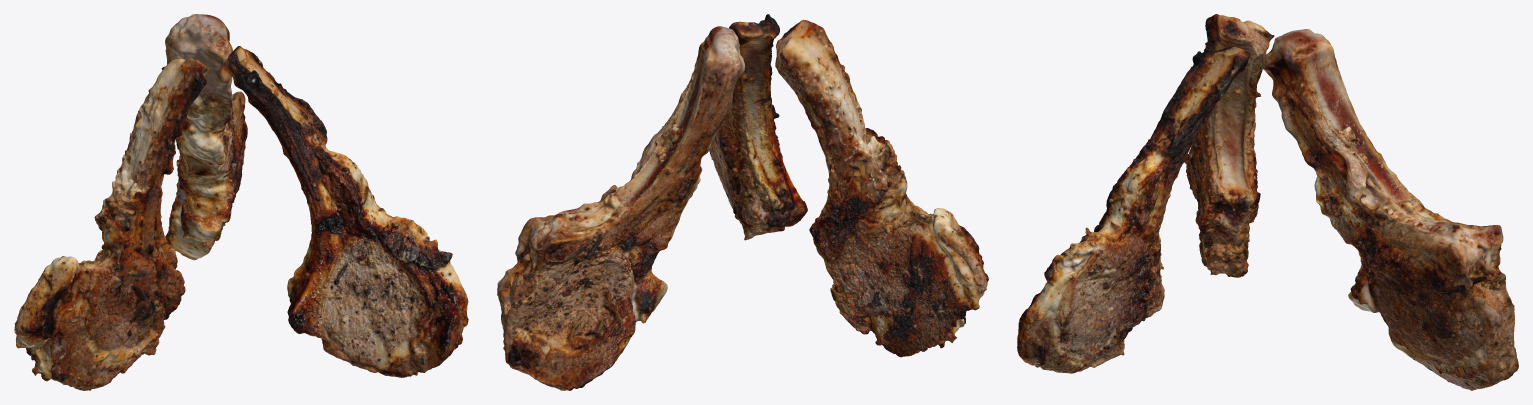
File: costeletas-de-cordeiro-android.glb
3 views of the same model, side by side, from view 1: azimuth 30°, elevation 25°; view 2: azimuth 150°, elevation 25°; view 3: azimuth 270°, elevation 25° (orthographic). The views are drawn at different scales.
Parts seen in each view (by area): view 1: Object_4, Object_6, Object_7, Object_2, Object_5, Object_3; view 2: Object_2, Object_6, Object_3, Object_4, Object_7, Object_5; view 3: Object_2, Object_4, Object_3, Object_6, Object_5, Object_7.
Boxes of the visible parts, bbox=[...] form: Object_4: bbox=[225, 46, 468, 369]; Object_6: bbox=[14, 58, 209, 388]; Object_7: bbox=[22, 110, 181, 390]; Object_2: bbox=[165, 14, 247, 260]; Object_5: bbox=[247, 61, 468, 377]; Object_3: bbox=[168, 26, 245, 259]; Object_2: bbox=[497, 26, 745, 390]; Object_6: bbox=[775, 19, 988, 355]; Object_3: bbox=[497, 33, 739, 360]; Object_4: bbox=[709, 14, 807, 240]; Object_7: bbox=[775, 60, 980, 357]; Object_5: bbox=[710, 15, 792, 238]; Object_2: bbox=[1273, 29, 1518, 390]; Object_4: bbox=[1017, 46, 1250, 373]; Object_3: bbox=[1260, 45, 1516, 388]; Object_6: bbox=[1184, 14, 1274, 276]; Object_5: bbox=[1018, 54, 1226, 372]; Object_7: bbox=[1186, 48, 1266, 277].
Bounding box in the file's own units: 0.237 × 0.1967 × 0.2787.
Materials: 3 (3 with a texture image).
